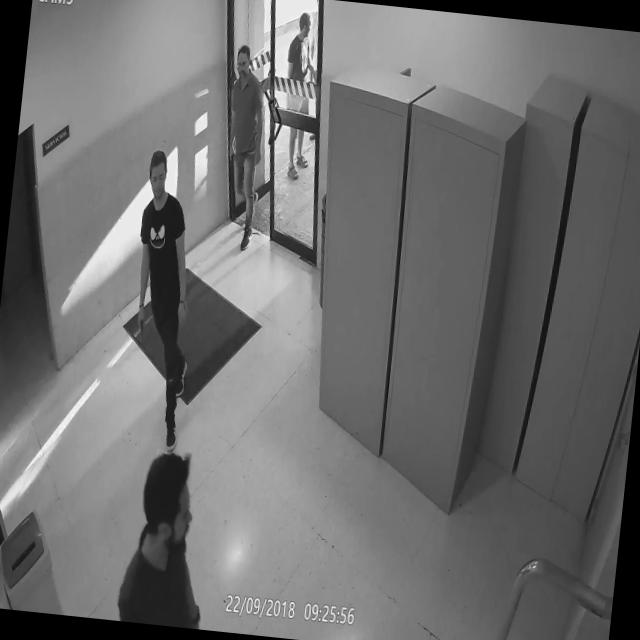gun: (132, 312, 150, 356), (223, 148, 240, 182)
person: (112, 443, 222, 630), (274, 9, 326, 184)
person with a gun: (116, 144, 211, 450), (213, 43, 280, 254)
